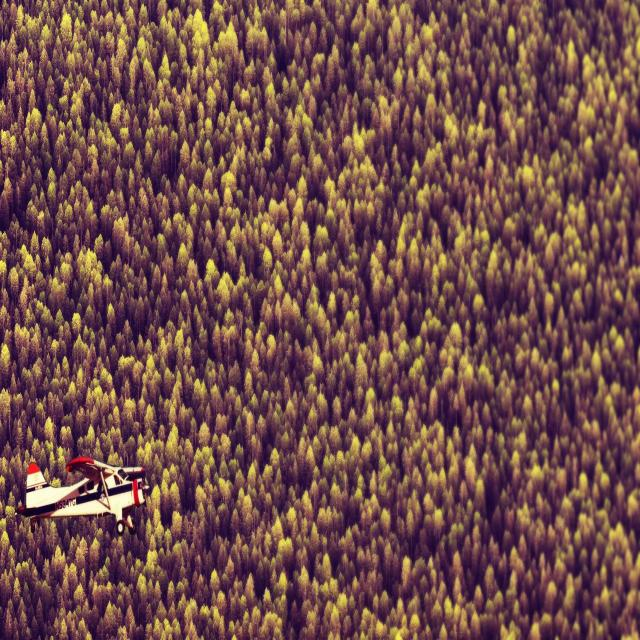airplane: (15, 454, 149, 537)
